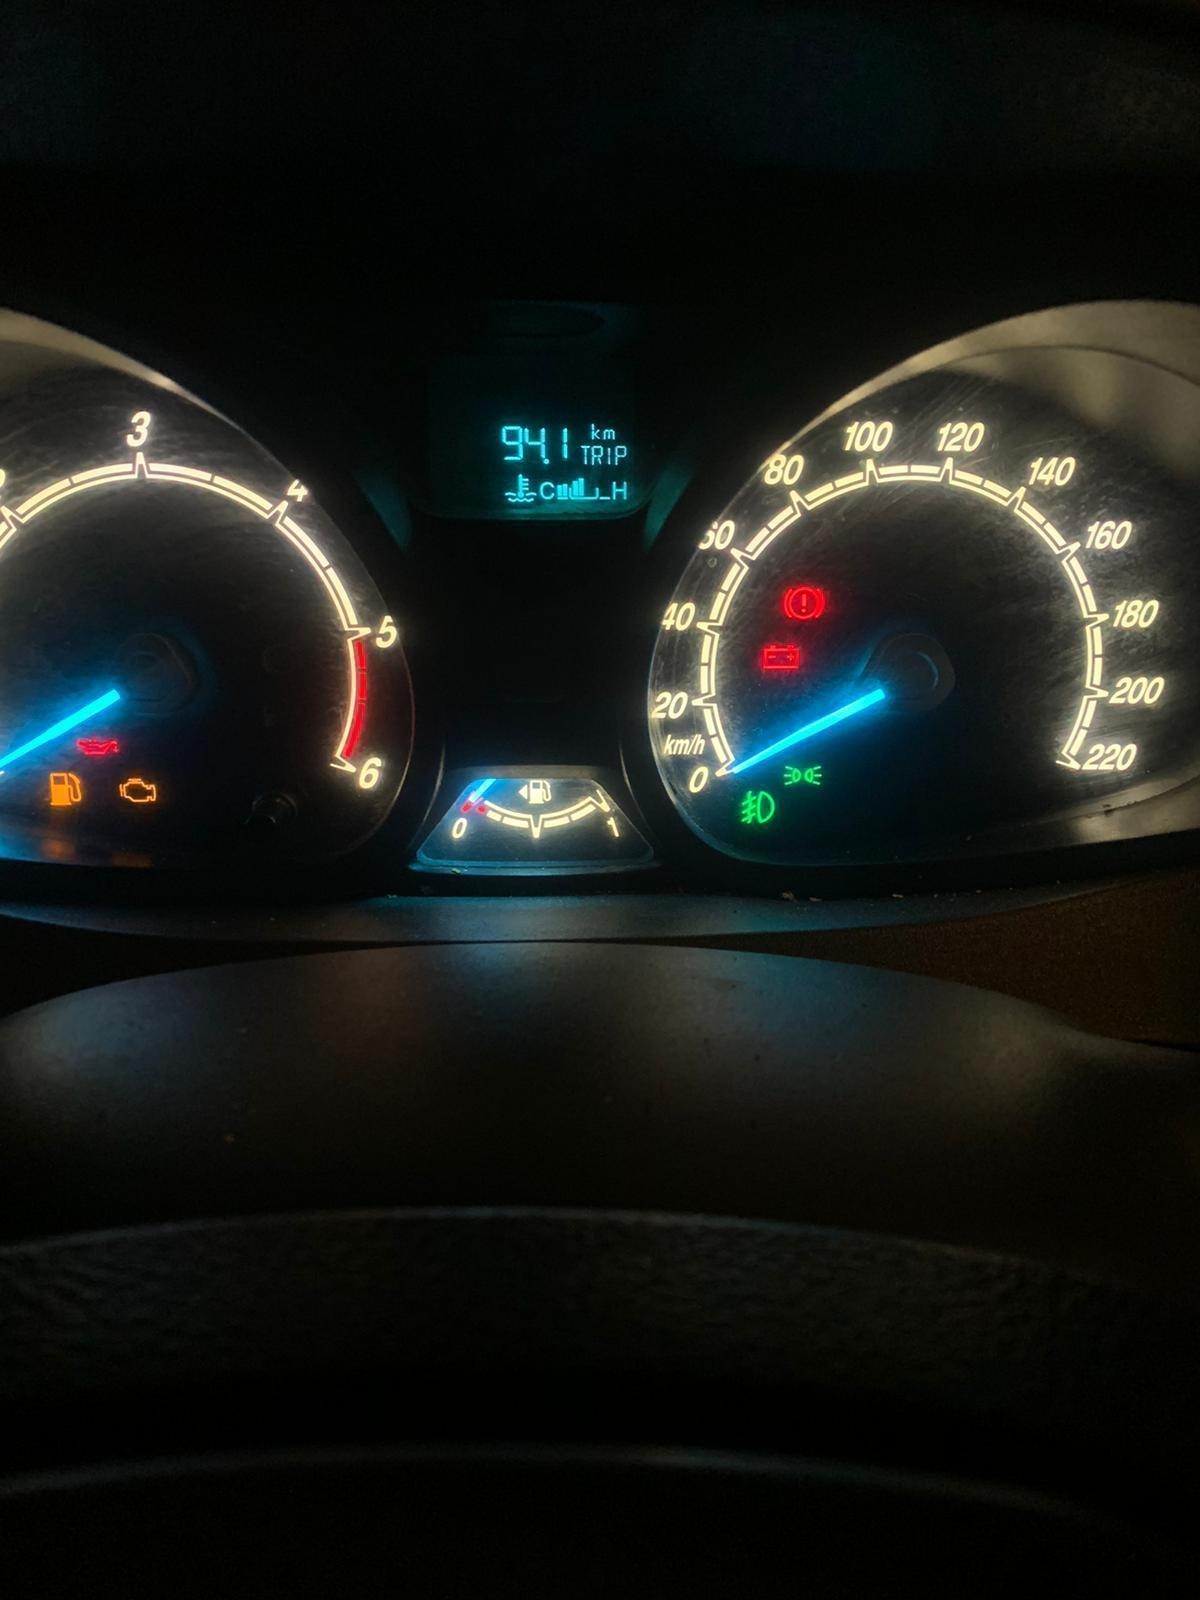,: (542, 459, 550, 464)
1: (558, 426, 568, 460)
4: (522, 426, 546, 459)
9: (498, 425, 523, 461)
X: (610, 477, 628, 500), (538, 480, 555, 501), (613, 443, 628, 466), (591, 443, 604, 466), (579, 443, 590, 465), (589, 421, 601, 440), (603, 428, 616, 440), (605, 445, 613, 465)
odometer: (489, 416, 640, 511)
